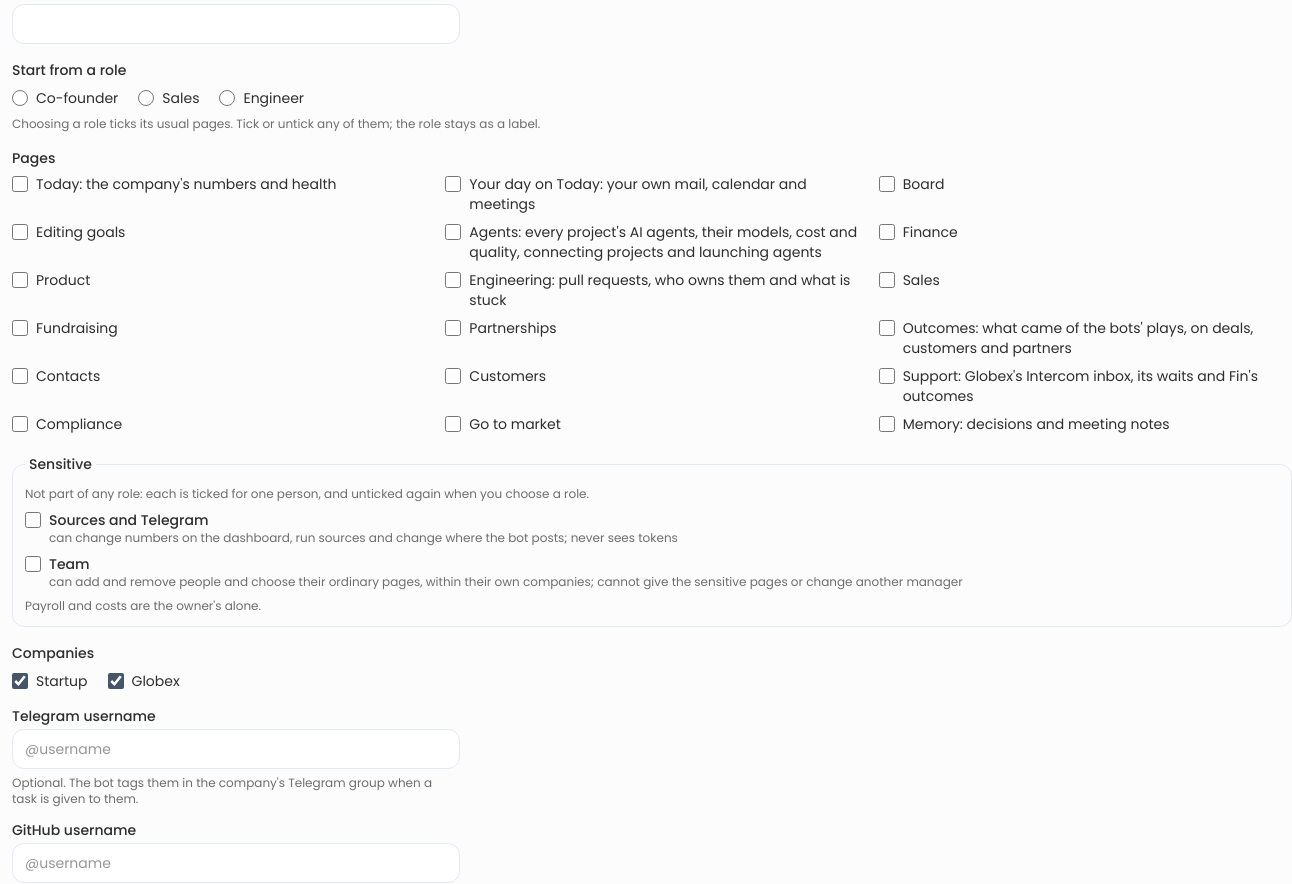
Scenario: the add form's Telegram field › a refusal keeps what was typed
Step 1. Type "new.person@example.com" into the field labelled "Google account email" → (236, 24), box left=12, top=4, right=460, bottom=44
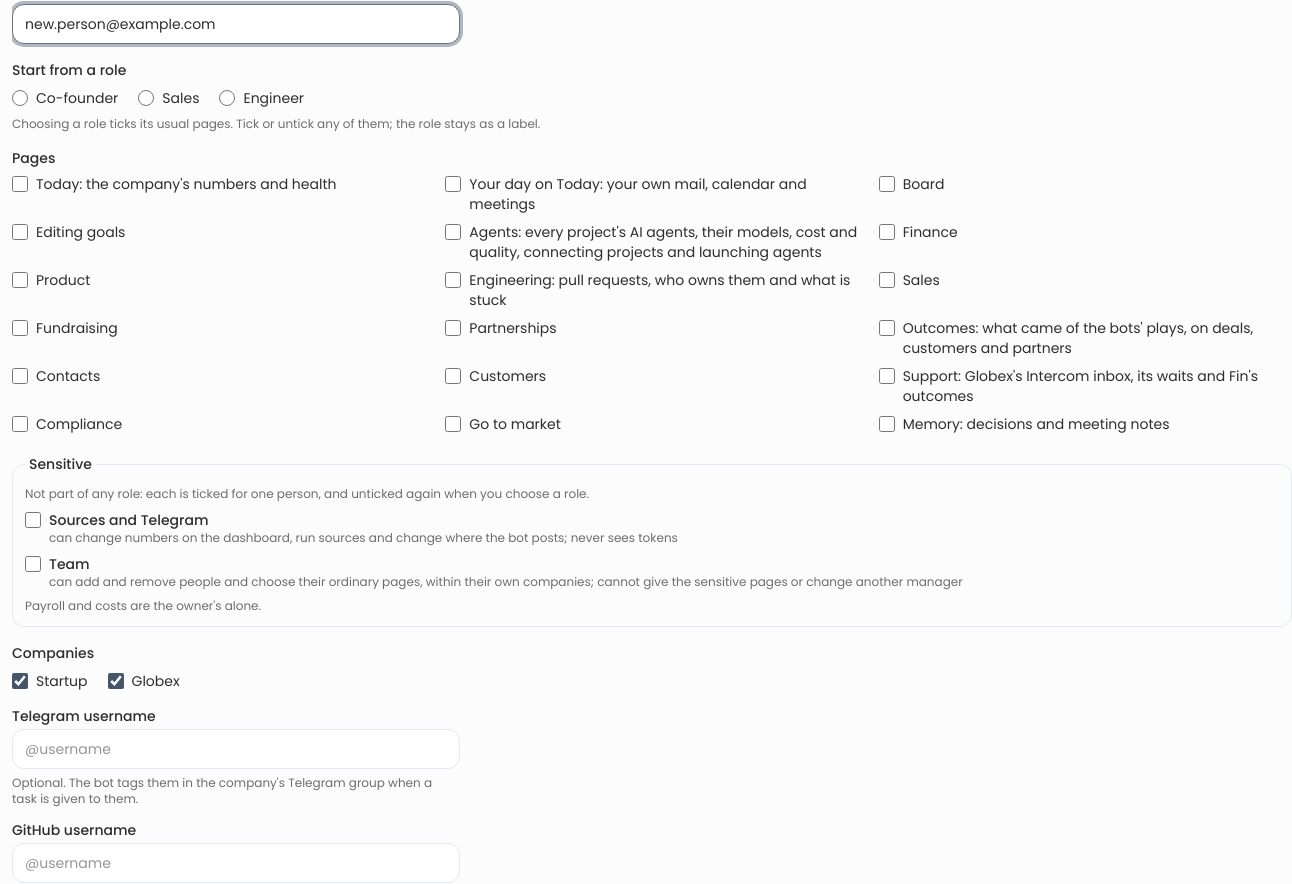
Step 2. Click the radio button labelled "Sales" → (146, 98), box left=138, top=90, right=154, bottom=106
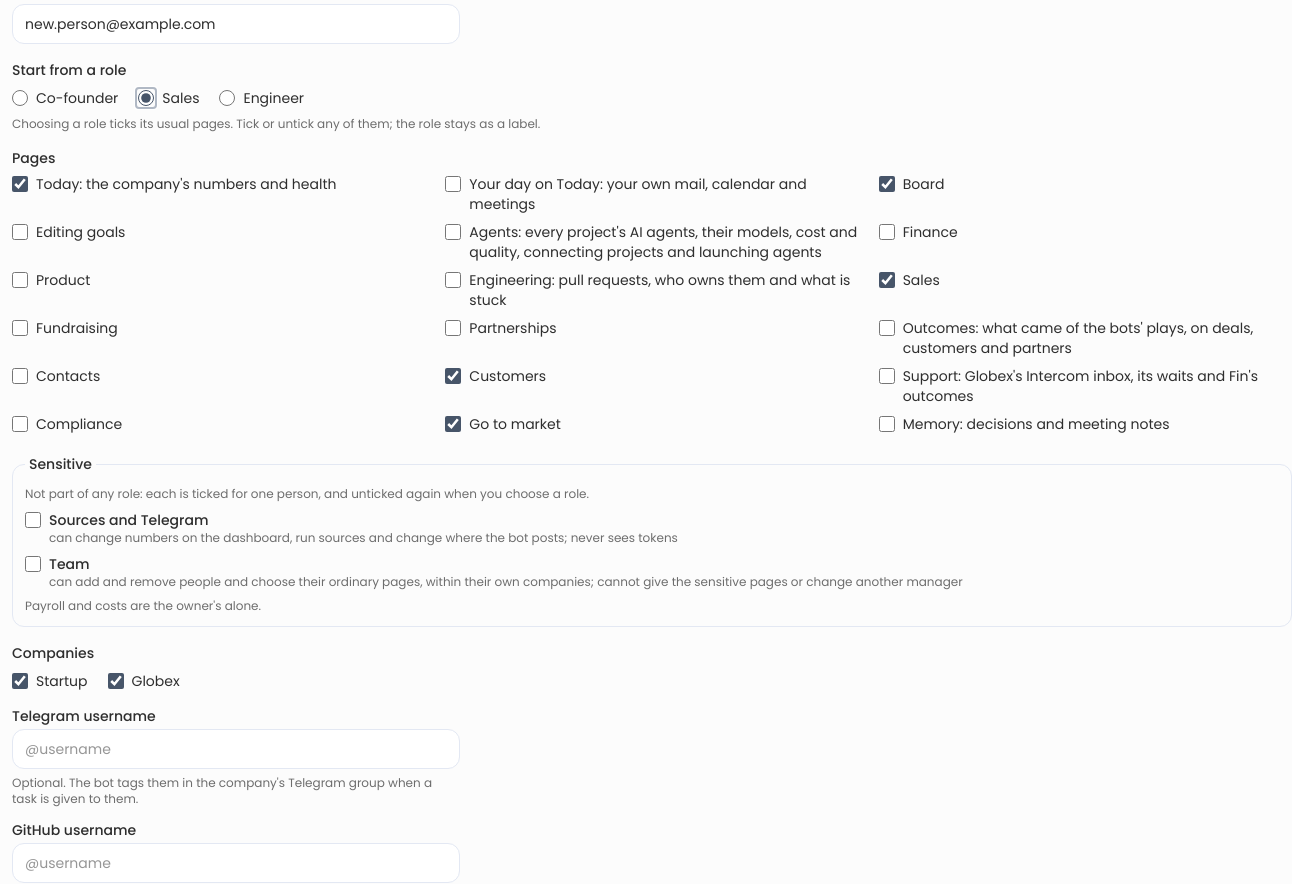
Step 3. Type "x y" into the field labelled "Telegram username" → (236, 749), box left=12, top=729, right=460, bottom=769
(page scrolled)
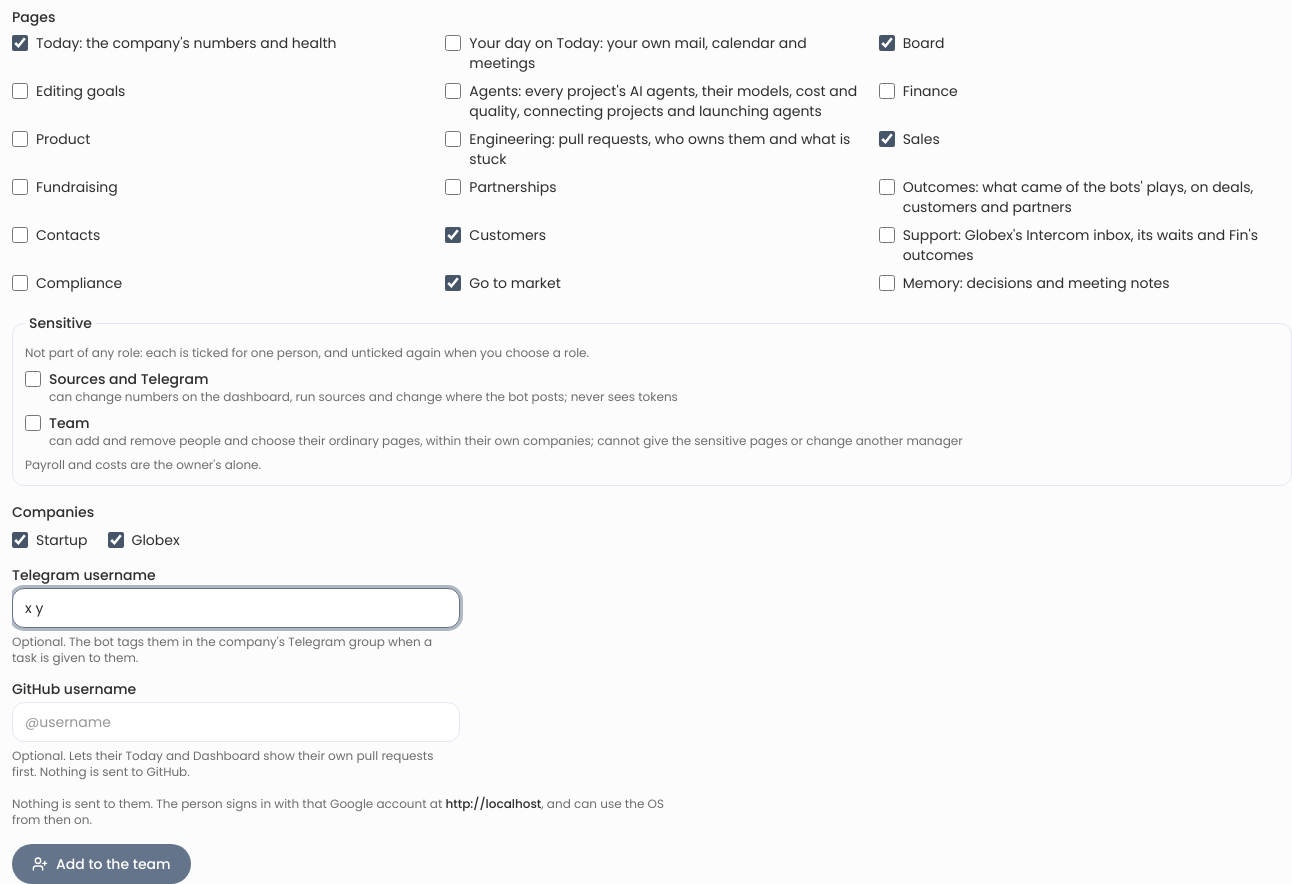
Step 4. Click the button "Add to the team" → (101, 864), box left=12, top=844, right=191, bottom=883
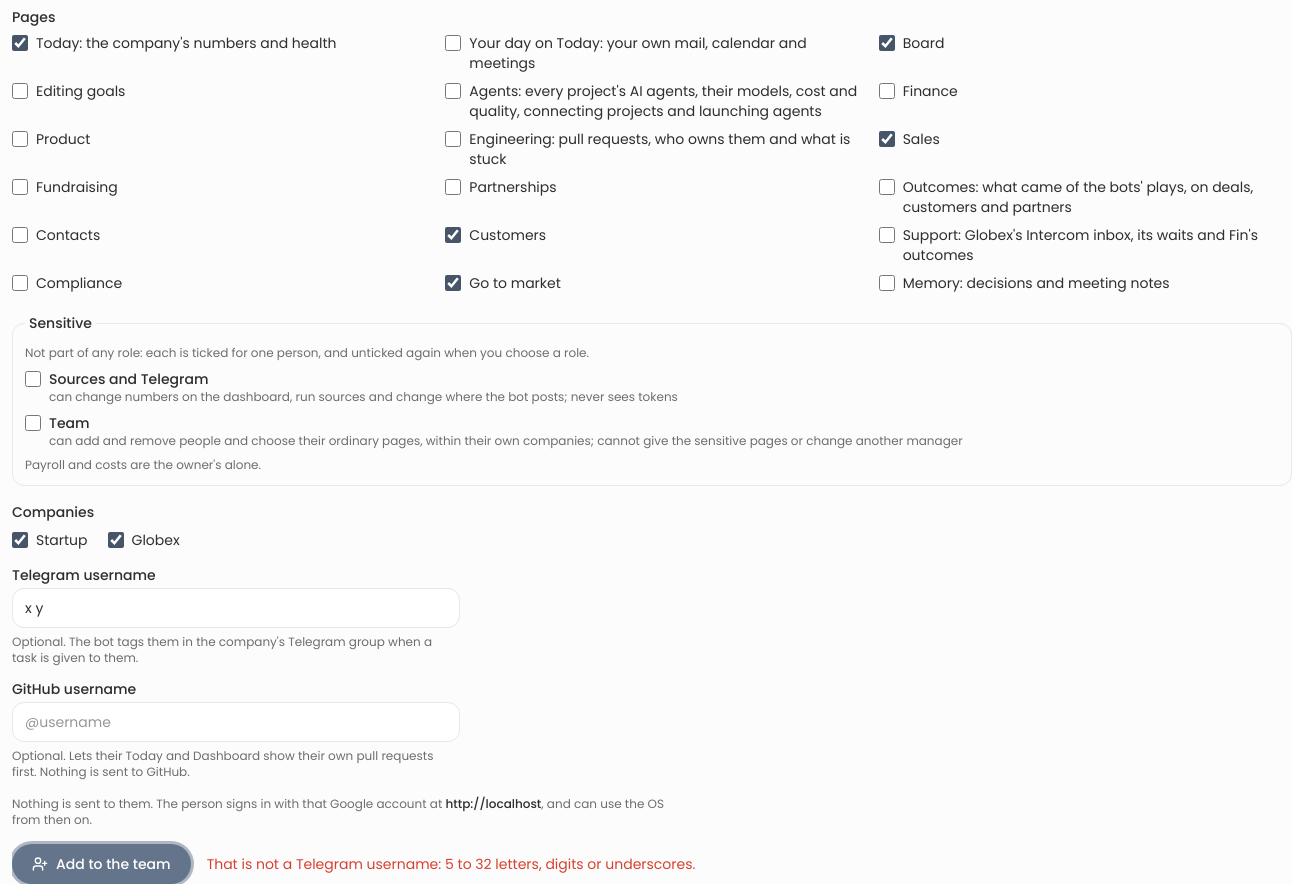
Now the message reads "That is not a Telegram username: 5 to 32 letters, digits or underscores.", box left=207, top=854, right=696, bottom=874
